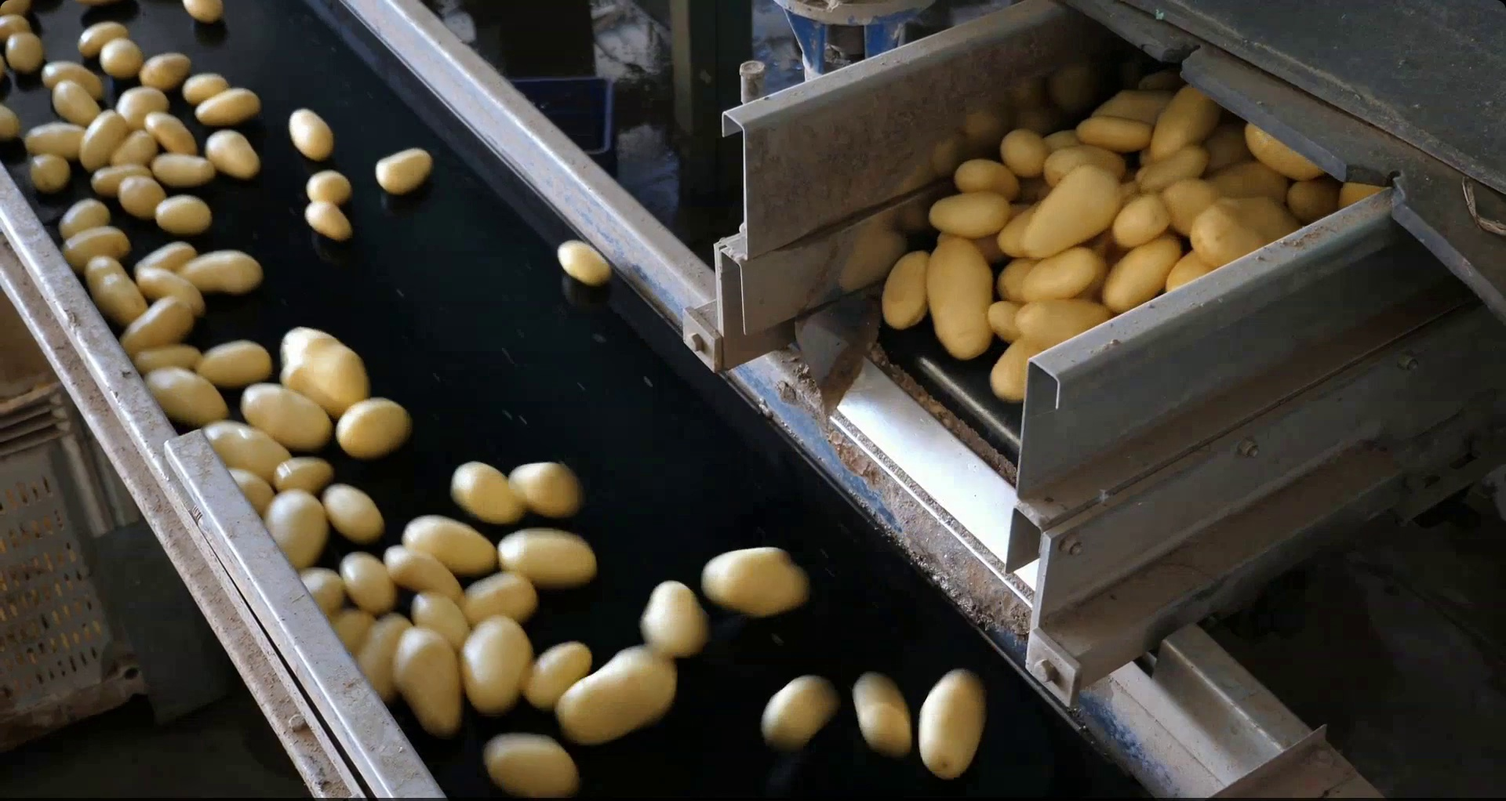potato: (549, 640, 682, 750), (1017, 158, 1124, 267), (276, 315, 376, 422), (1182, 191, 1304, 277), (922, 232, 999, 366), (909, 660, 989, 784), (387, 624, 469, 738), (455, 612, 542, 719), (699, 542, 814, 621), (1094, 226, 1188, 320), (634, 574, 715, 669), (395, 509, 505, 578), (493, 524, 602, 593), (236, 377, 336, 452), (757, 669, 842, 757), (198, 411, 298, 485), (481, 727, 581, 800), (1008, 294, 1127, 354), (1145, 78, 1226, 165), (351, 610, 420, 711), (516, 635, 601, 716), (258, 485, 330, 576), (378, 537, 472, 606), (442, 456, 529, 530), (1237, 114, 1330, 183), (329, 391, 417, 463), (140, 363, 233, 429), (1013, 242, 1108, 306), (459, 565, 542, 637), (876, 244, 940, 335), (851, 669, 913, 761), (115, 292, 198, 360), (983, 329, 1049, 409), (1204, 154, 1294, 212), (506, 456, 587, 520), (1155, 171, 1232, 238), (406, 585, 474, 660), (922, 185, 1011, 242), (192, 332, 276, 392), (315, 476, 386, 545), (1108, 184, 1180, 251), (1133, 136, 1213, 196), (333, 546, 400, 616), (1039, 138, 1130, 189), (75, 102, 135, 179), (176, 246, 268, 296), (1082, 82, 1182, 128), (55, 222, 136, 276), (366, 140, 438, 200), (1066, 107, 1157, 154), (133, 263, 209, 317), (551, 232, 616, 295), (949, 150, 1021, 206), (281, 102, 340, 167), (19, 112, 94, 162), (50, 189, 115, 245), (35, 53, 107, 103), (993, 197, 1048, 262), (93, 269, 154, 327), (202, 124, 265, 180), (43, 74, 108, 128), (191, 83, 267, 129), (1159, 237, 1215, 297), (141, 104, 198, 161), (145, 145, 218, 189), (998, 123, 1052, 182), (224, 457, 275, 519), (114, 81, 176, 132), (271, 452, 339, 498), (72, 14, 136, 62), (85, 158, 156, 201), (994, 248, 1044, 309), (129, 339, 209, 377), (131, 47, 195, 94), (149, 190, 215, 235), (294, 557, 346, 614), (298, 194, 355, 246), (111, 171, 171, 219), (980, 290, 1028, 350), (17, 145, 75, 194), (128, 238, 206, 274), (1282, 174, 1338, 224), (1199, 121, 1255, 171), (106, 125, 163, 171), (97, 33, 150, 82), (327, 604, 371, 658), (304, 167, 356, 210), (174, 67, 229, 107), (83, 252, 131, 296), (5, 26, 48, 74), (171, 1, 234, 32), (1333, 173, 1383, 209), (1, 94, 23, 154), (1038, 127, 1085, 152), (1, 9, 29, 47), (1, 1, 33, 19), (1, 53, 20, 83)
